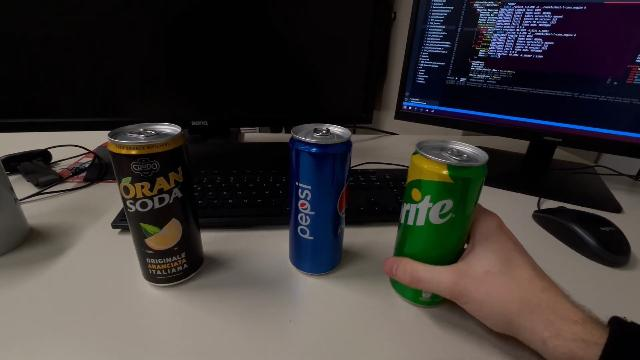OranSoda: (106, 120, 206, 290)
Pepsi: (285, 120, 355, 276)
Sprite: (388, 136, 490, 310)
